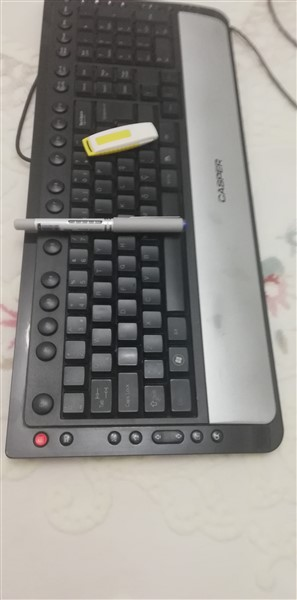flash disk: (82, 116, 161, 159)
klavye: (3, 1, 284, 460)
pilot kalem: (13, 213, 193, 241)
